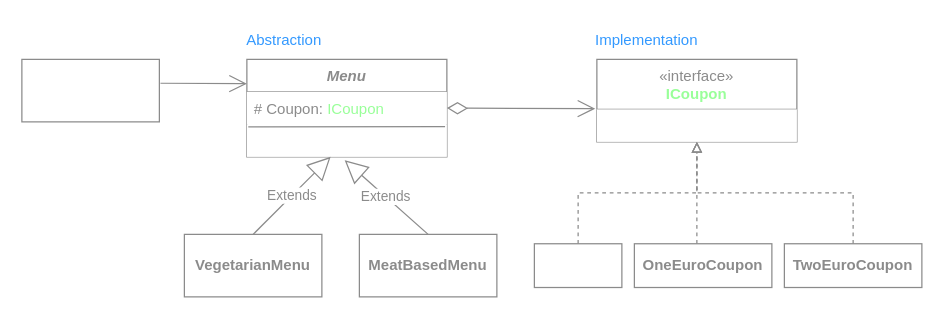
This 944x319 diagram has some shape labels left out. The centre of each missing label's shape, as x and y in pixels:
+ CalculatePrice(): int: pixel 346 140
+ CouponValue: int: pixel 696 125
Client: pixel 90 90
NoCoupon: pixel 577 265
